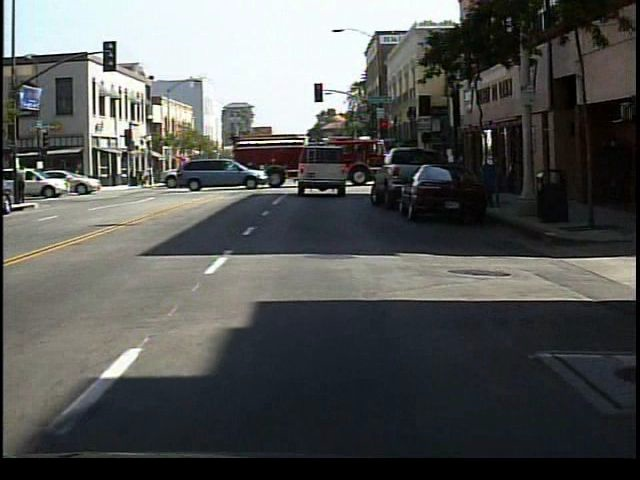person: (18, 163, 31, 207)
